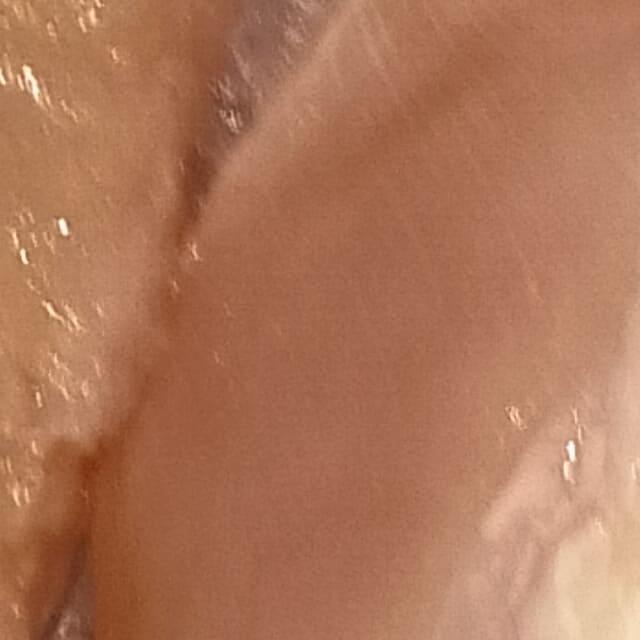chicken: (107, 0, 640, 640), (0, 0, 312, 640)
